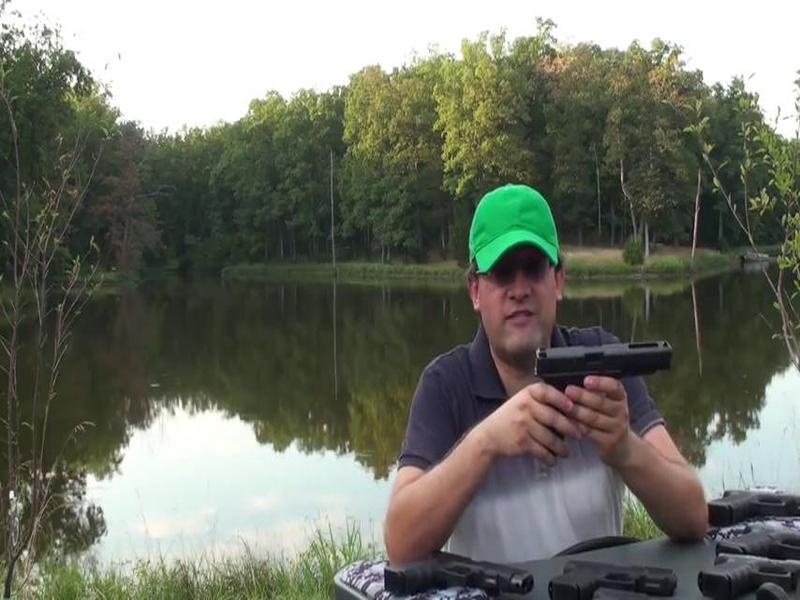Pistola: (524, 336, 679, 454)
